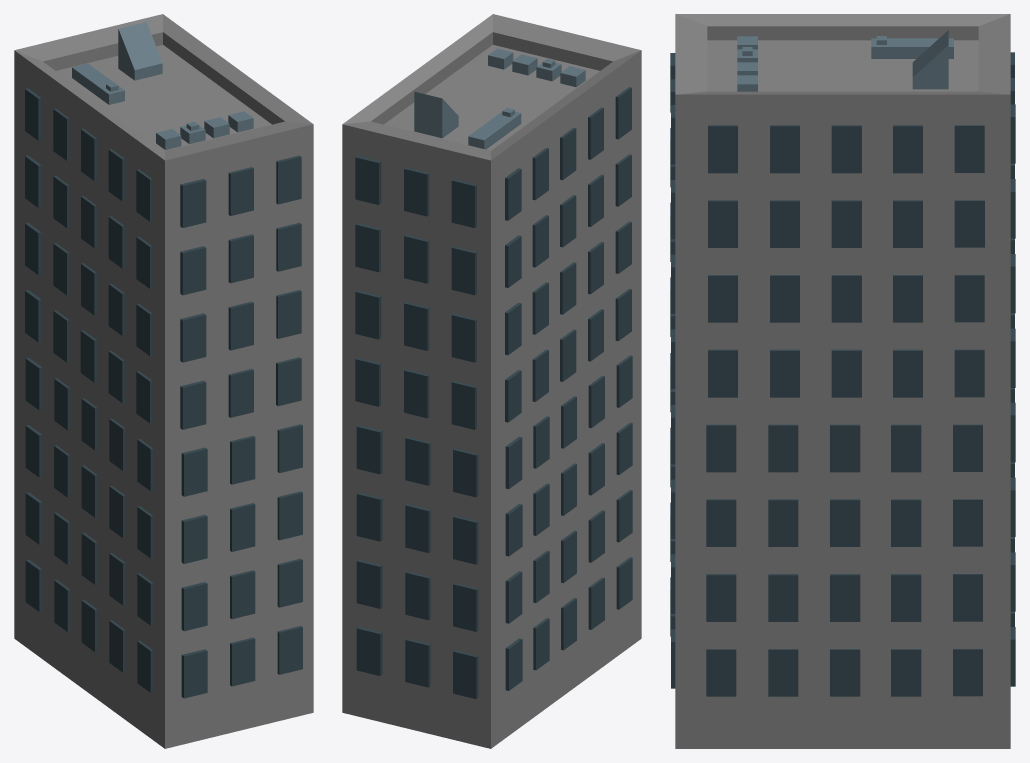
The picture shows the model from 3 angles, left to right: view 1: azimuth 30°, elevation 25°; view 2: azimuth 150°, elevation 25°; view 3: azimuth 270°, elevation 25°; orthographic projection. The views are drawn at different scales.
Parts seen in each view (by area): view 1: node_MeshObject1576788224-PolyPaper17; view 2: node_MeshObject1576788224-PolyPaper17; view 3: node_MeshObject1576788224-PolyPaper17.
Boxes of the visible parts, x1,y1,x2,y2 form: node_MeshObject1576788224-PolyPaper17: (14,14,313,748); node_MeshObject1576788224-PolyPaper17: (342,14,641,748); node_MeshObject1576788224-PolyPaper17: (670,14,1015,748).
Bounding box in the file's own units: 0.3834 × 1.46 × 0.67.
